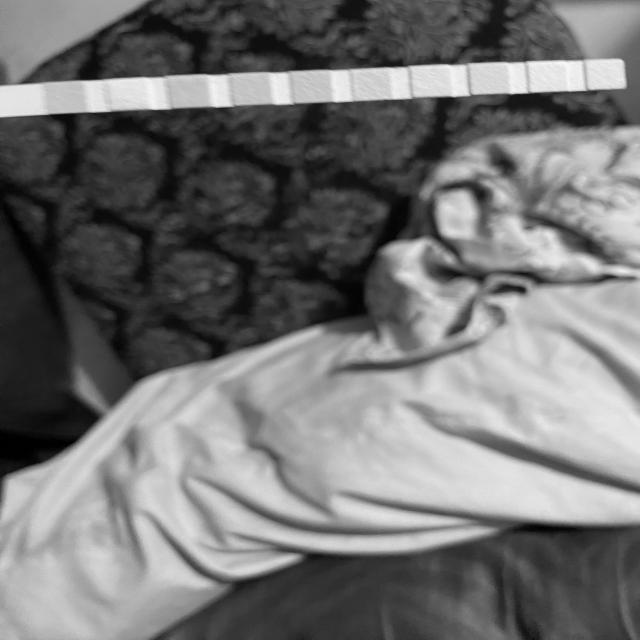Bilirubin: (114, 81, 148, 108)
Blood: (296, 73, 329, 101)
Glucose: (47, 84, 84, 112)
Ketone: (175, 77, 205, 105)
Leukocytes: (589, 61, 623, 88)
Nitrite: (531, 64, 566, 92)
Protein: (416, 67, 449, 96)
SpGravity: (236, 74, 269, 104)
Urobilinogen: (474, 65, 508, 94)
background: (0, 0, 640, 640)
pH: (357, 71, 389, 98)
strip: (0, 60, 627, 119)
